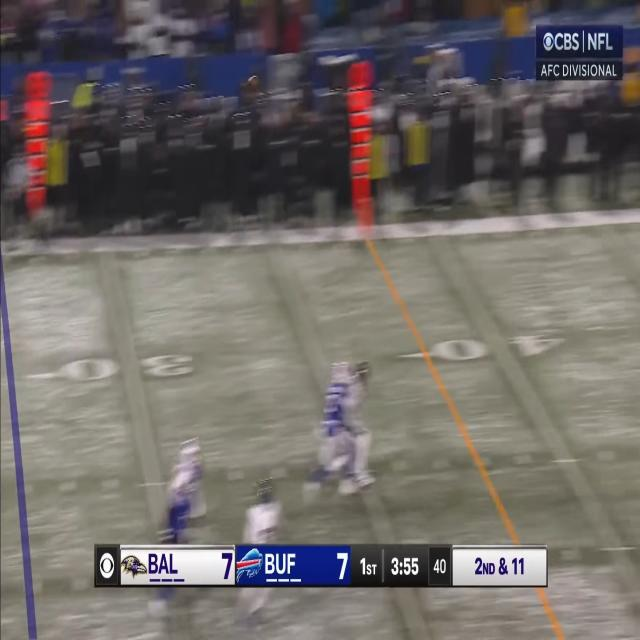Ball: (245, 74, 262, 89)
